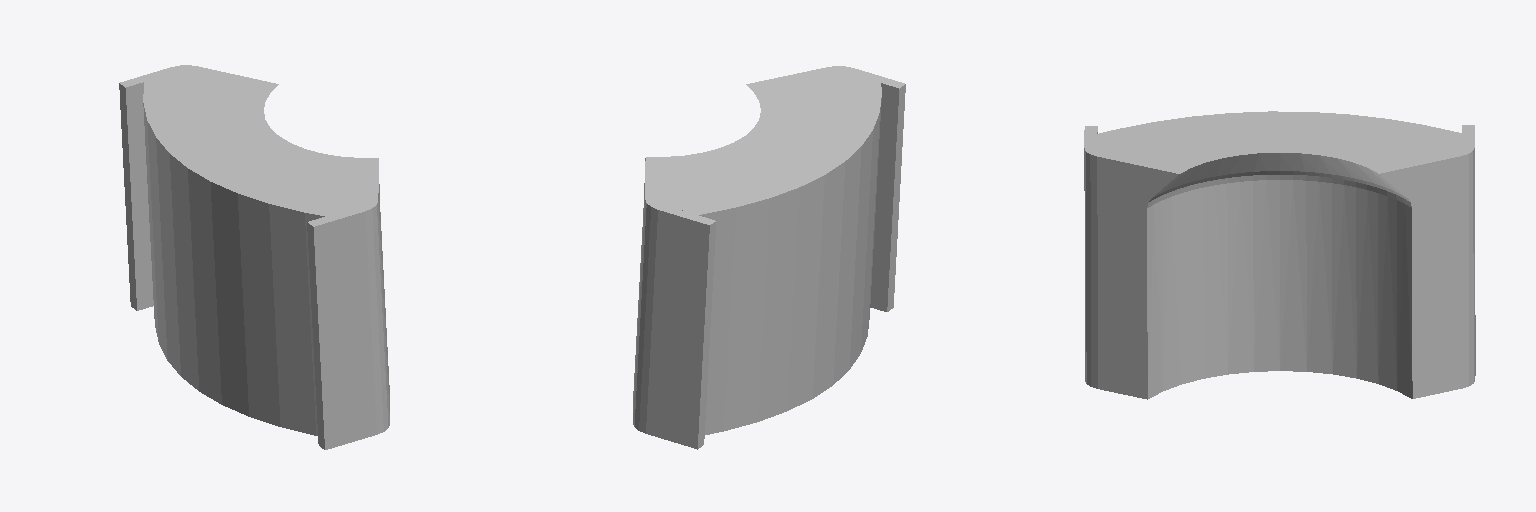
File: converted_r3_finger_pulley_block_808080ff.obj
The picture shows the model from 3 angles: view 1: azimuth 30°, elevation 25°; view 2: azimuth 150°, elevation 25°; view 3: azimuth 270°, elevation 25°; orthographic projection.
Bounding box in the file's own units: 0.0259 × 0.0399 × 0.0601.